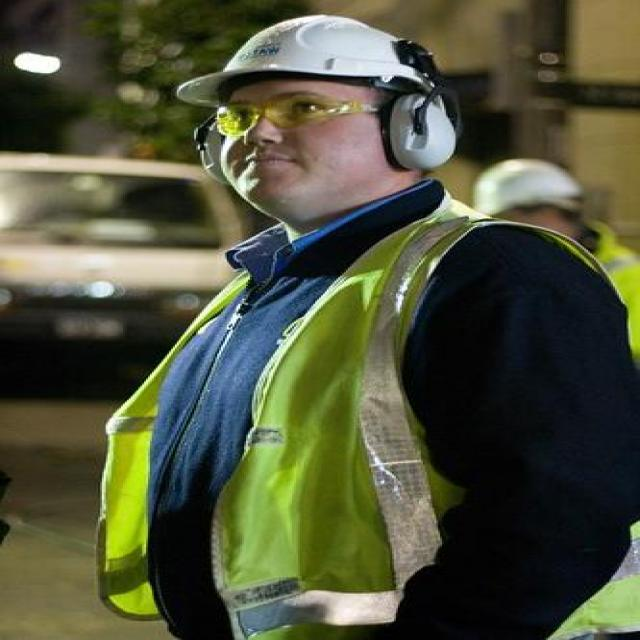Reflective-Jacket: (61, 179, 640, 640)
Safety-Helmet: (171, 10, 479, 131)
